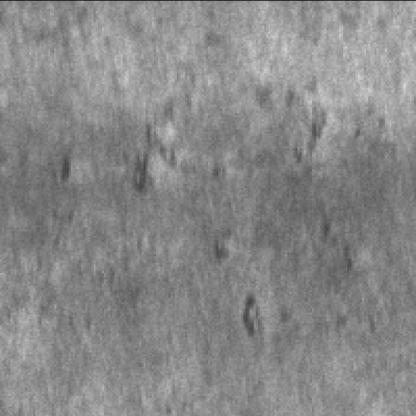rolled-in_scale: (60, 64, 335, 192), (212, 217, 283, 345)
